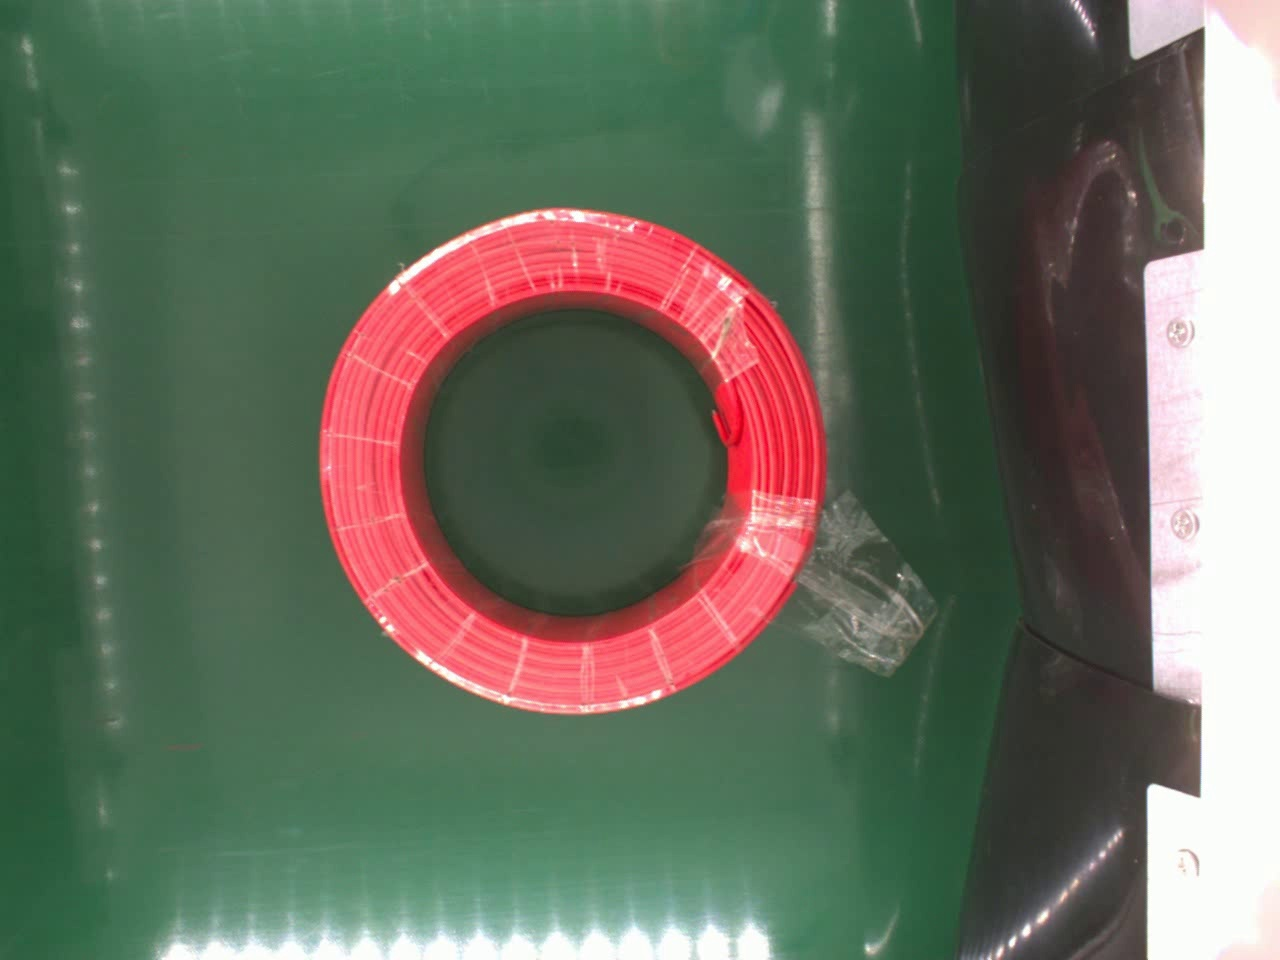red: (316, 203, 829, 710)
